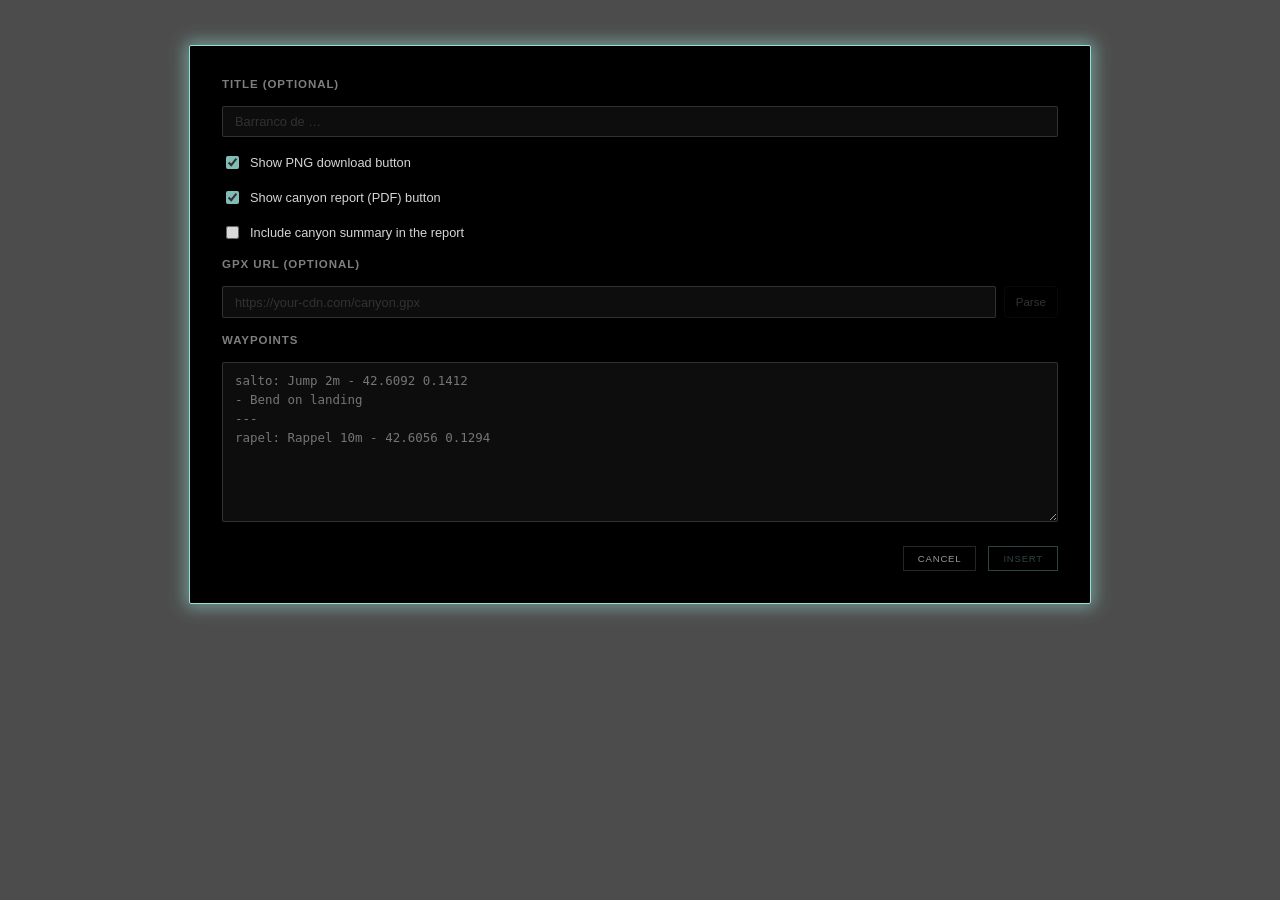
it: CroquisInsertModal › GPX parse › errors when the response has no waypoints
The width and height of the screenshot is (1280, 900).
Type "https://x/y.gpx" into the field with test id "croquis-modal-gpx".
click(609, 302); type("https://x/y.gpx")  # box x1=222 y1=286 x2=996 y2=318
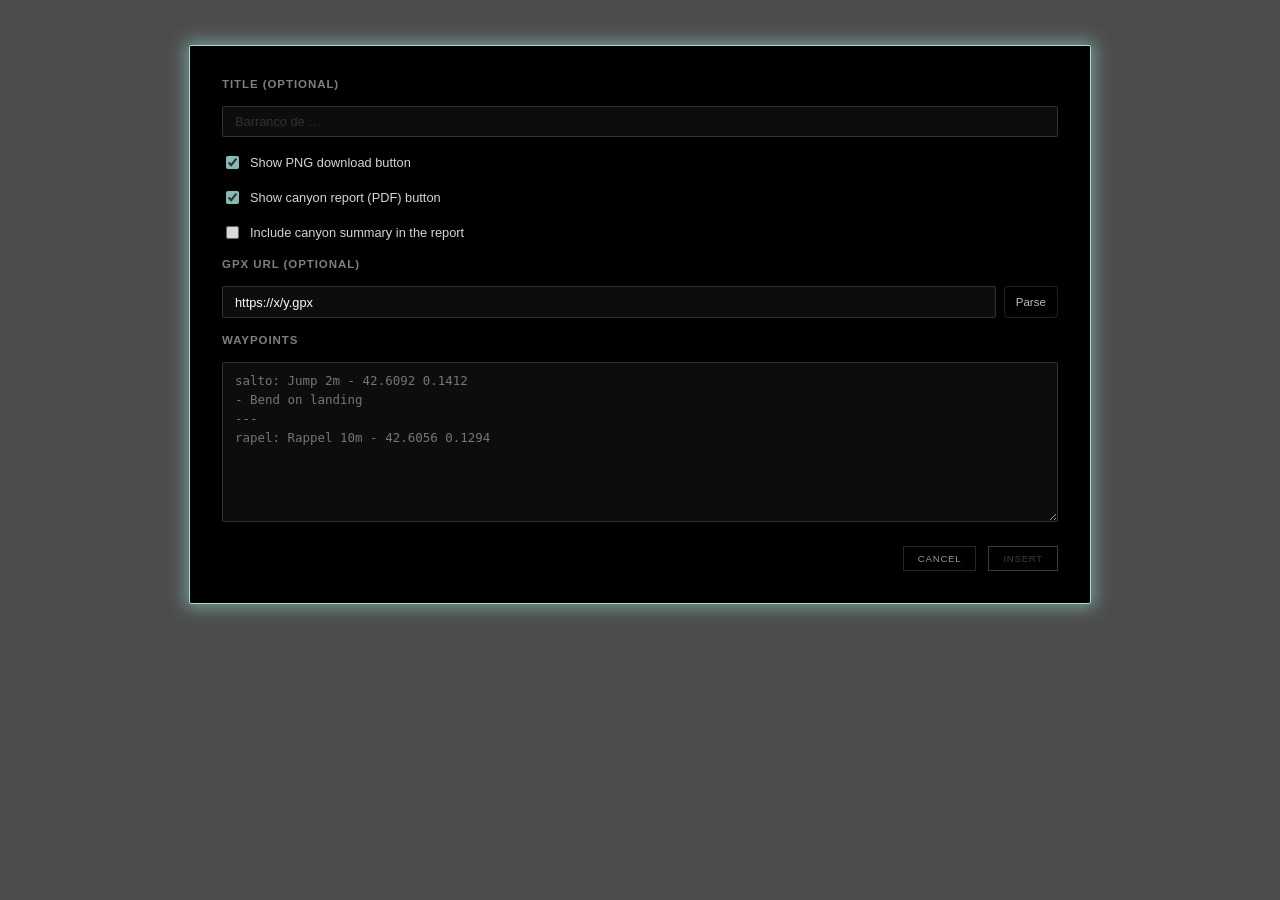
Click the button with test id "croquis-modal-parse".
click(1031, 302)  # box x1=1004 y1=286 x2=1058 y2=318
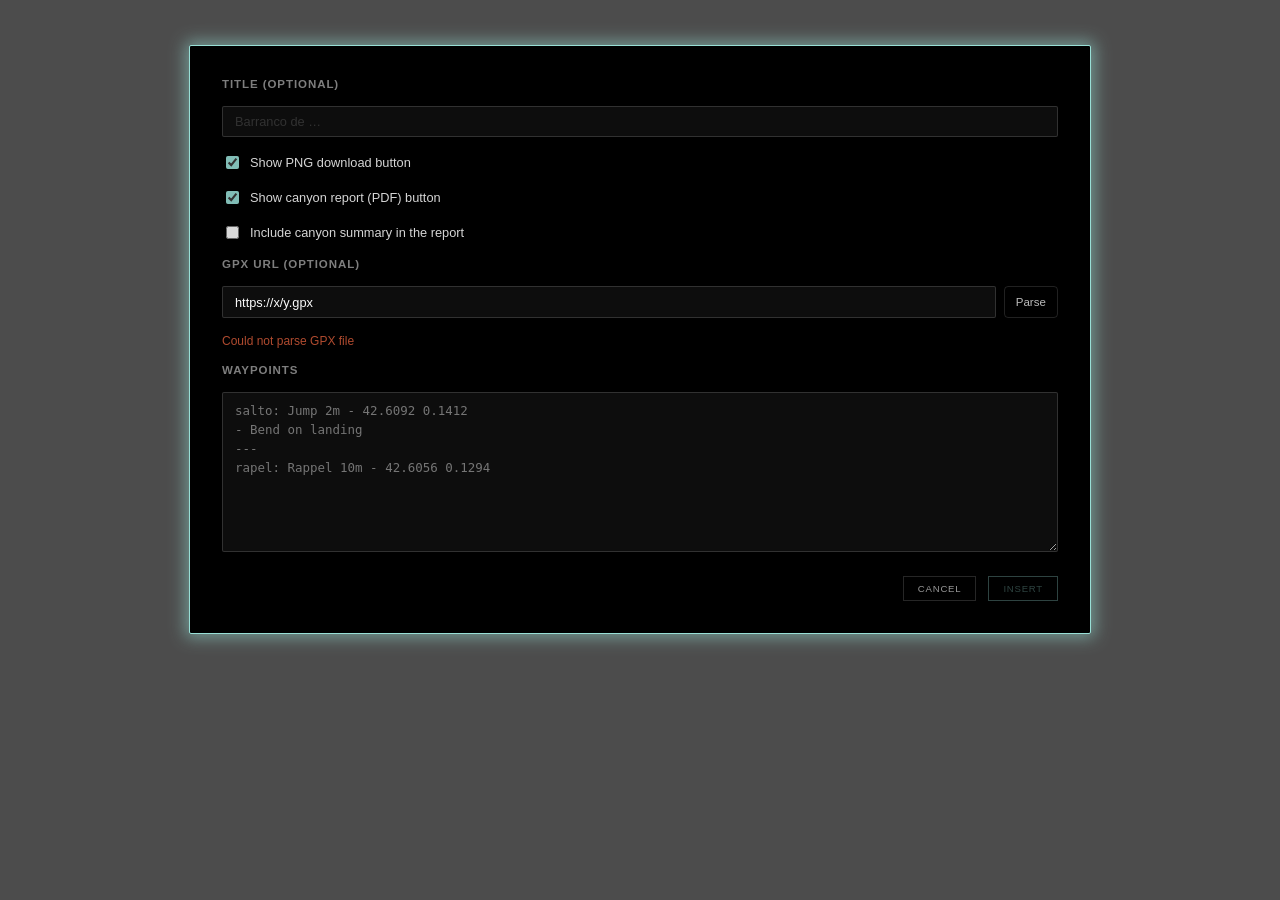
Now the text "Could not parse GPX file" is shown, box x1=222 y1=334 x2=354 y2=348
